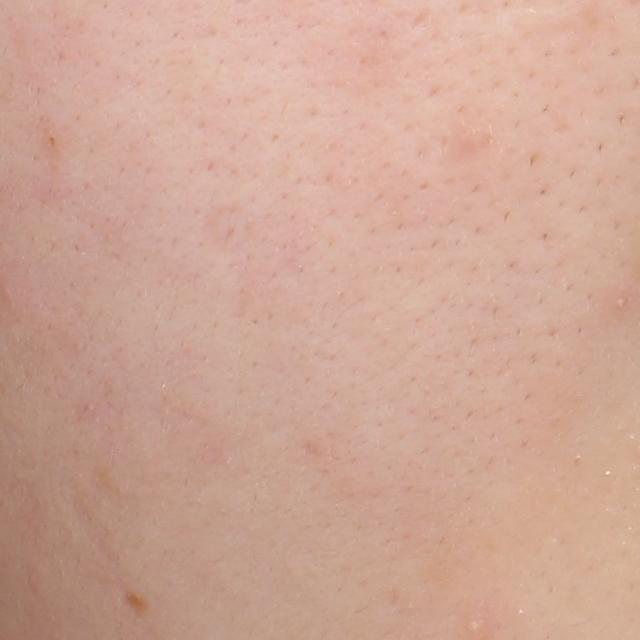comedo: (464, 618, 485, 637)
nevus: (123, 588, 151, 616)
